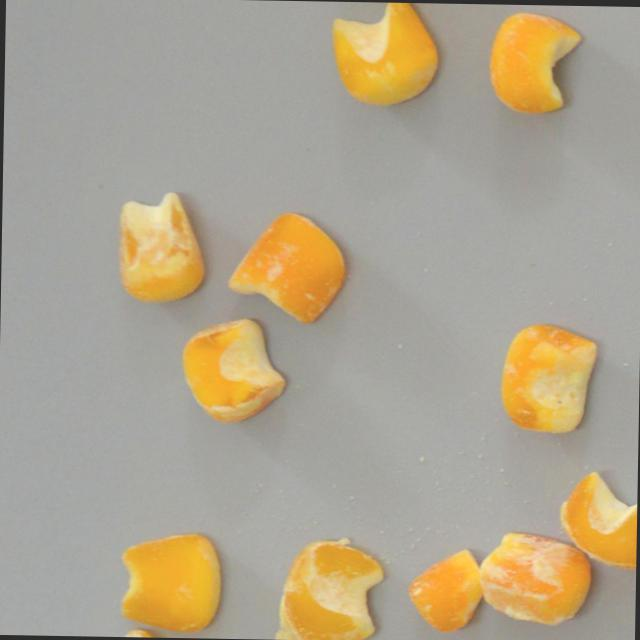no_canjicado: (329, 0, 440, 107)
pelicula: (228, 212, 346, 324), (179, 318, 288, 424), (480, 530, 592, 626), (118, 530, 221, 633), (280, 539, 384, 640), (116, 189, 206, 302), (487, 10, 583, 115), (558, 468, 637, 566), (406, 548, 485, 632)
punto_negro: (500, 322, 598, 433)
